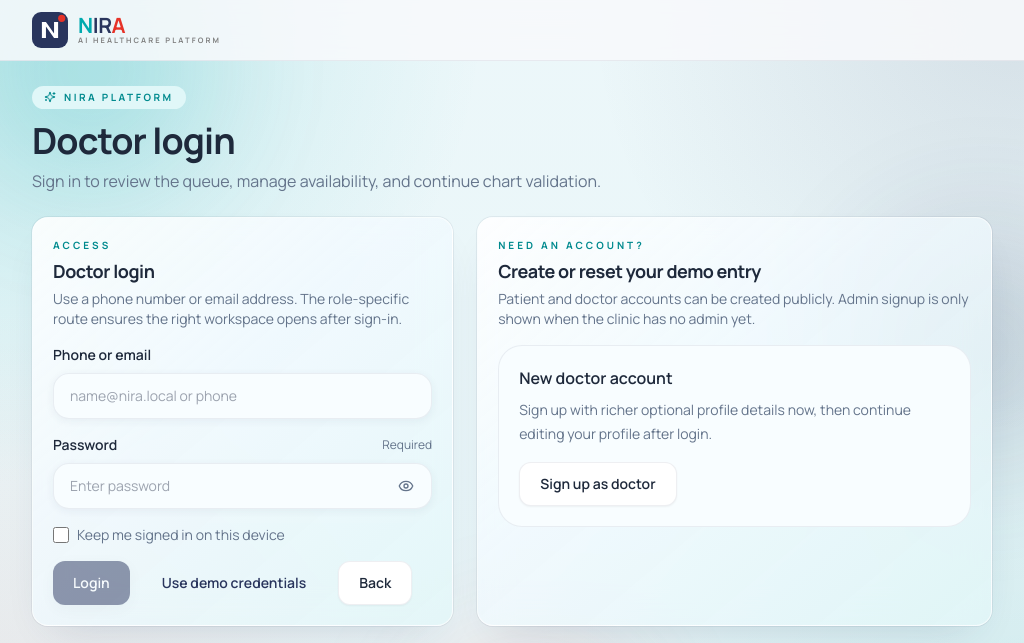
Scenario: doctor queue control shows a table layout and hides pending symptom placeholders
Check: the heading "Doctor login" below "NIRA Platform" is shown, box [32, 116, 235, 164]
Type "nisha.mehra@nira.local" into the field labelled "Phone or email" at (243,396), box [53, 372, 432, 418]
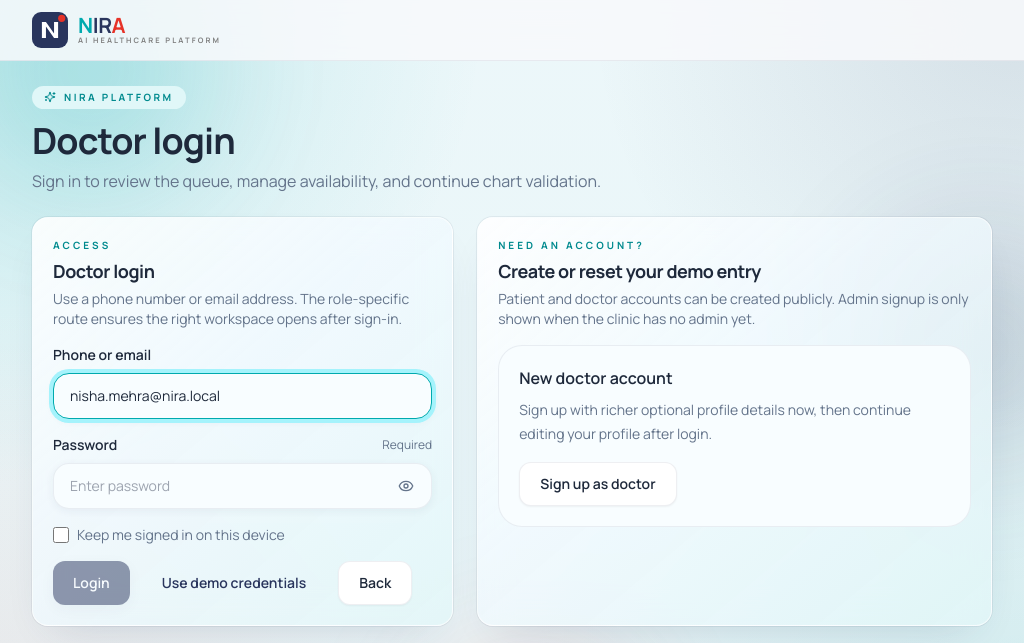
Type "Doctor@123" into the password field labelled "Password Required" at (243,486), box [53, 462, 432, 508]
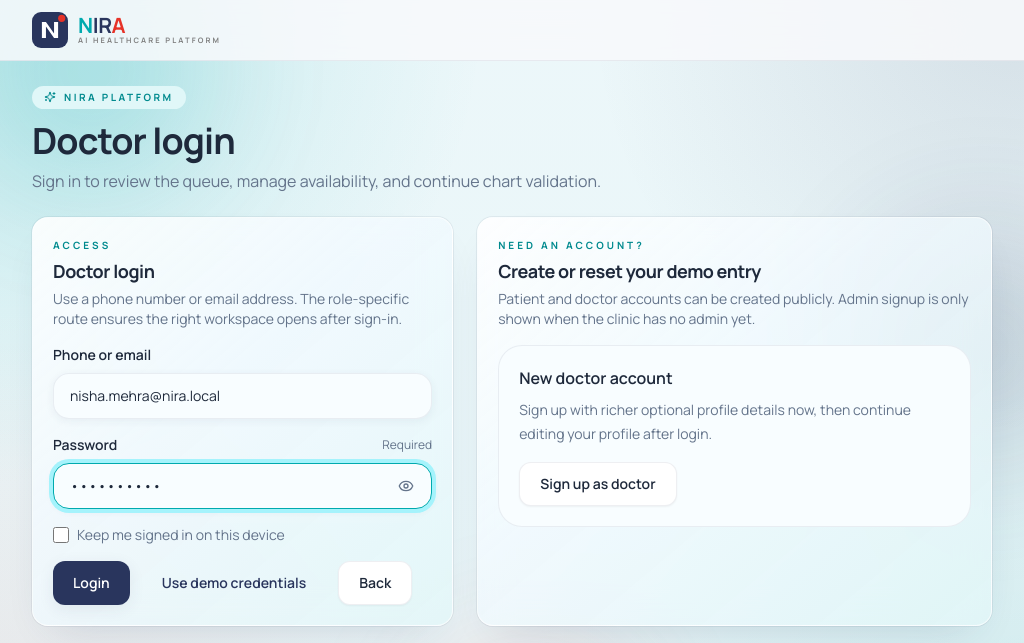
Click the button "Login" at (91,582), box [53, 560, 130, 604]
(page scrolled)
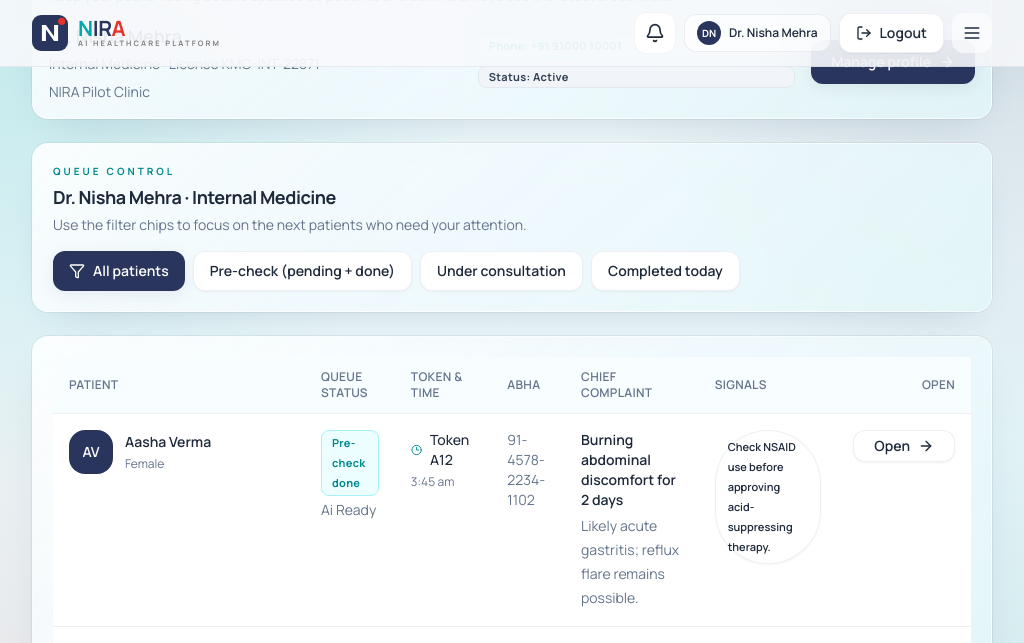
Check: the heading "Dr. Nisha Mehra · Internal Medicine" is shown, box [53, 184, 336, 208]
Check: the column heading "Patient" is shown, box [53, 356, 305, 413]
Check: the column heading "Chief complaint" is shown, box [565, 356, 699, 413]
